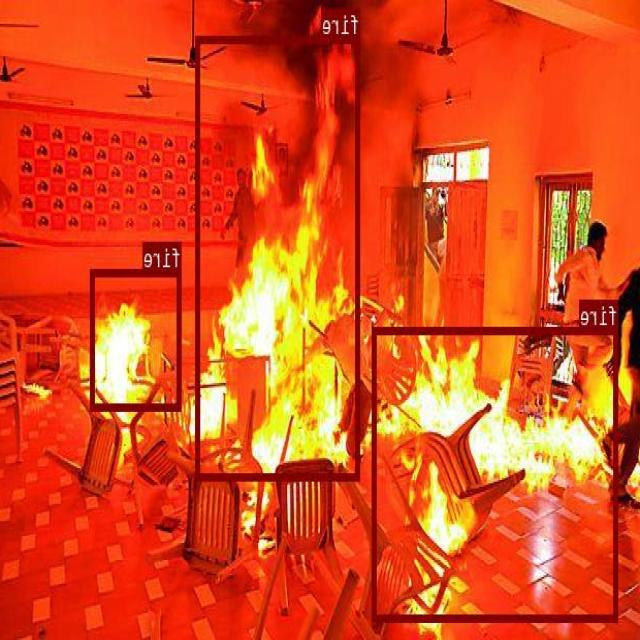fire: (197, 35, 360, 479), (373, 326, 619, 620), (91, 269, 182, 410)
